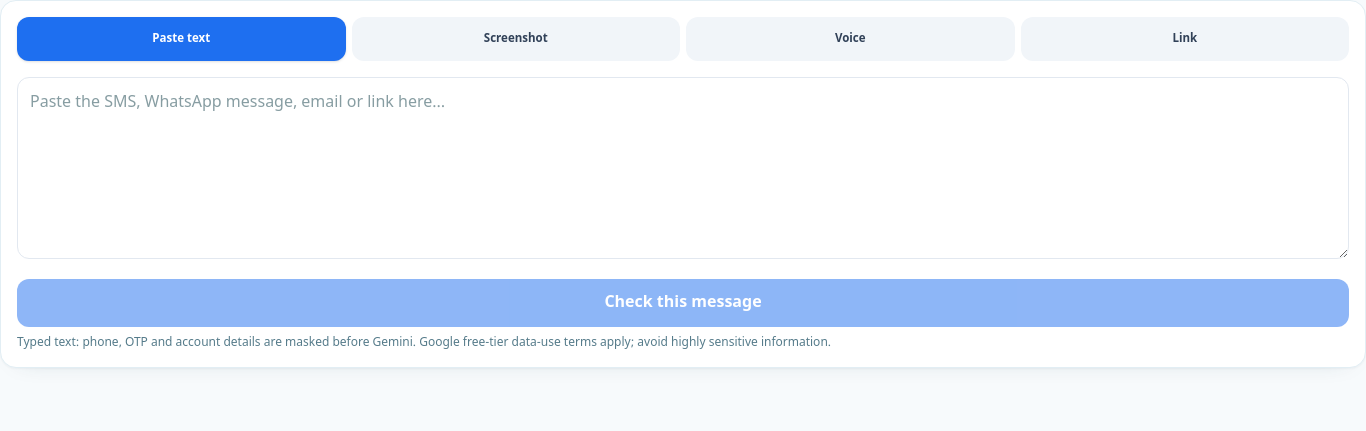
it: InputTabs › shows the PII badge when private details are present
The image size is (1366, 431).
Type "send to 01712345678" into the text box.
click(683, 168); type("send to 01712345678")  # box 17,77 -> 1349,259
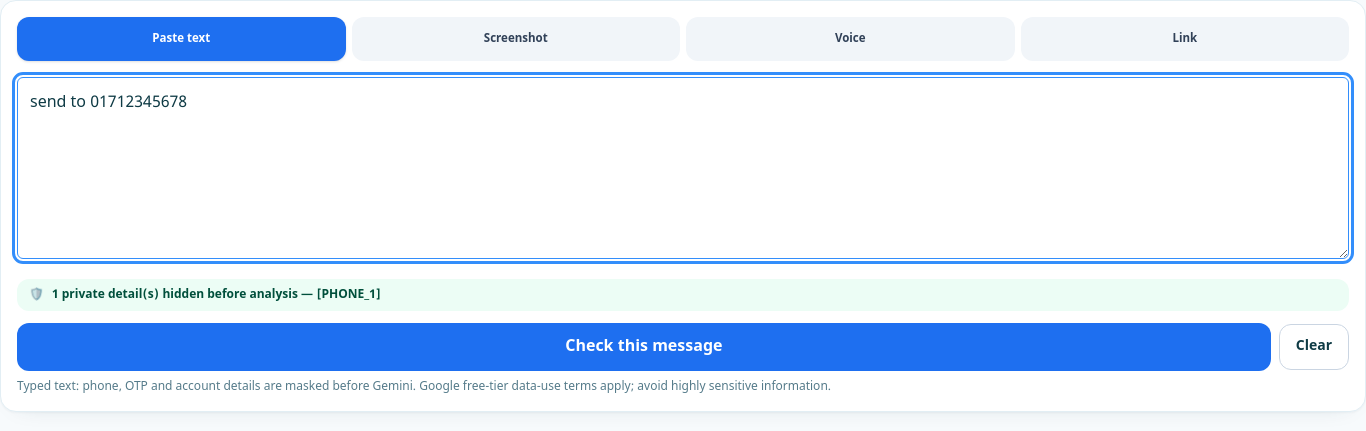
Result: the message reads "🛡️ 1 private detail(s) hidden before analysis — [PHONE_1]" at 52,287 -> 298,303
